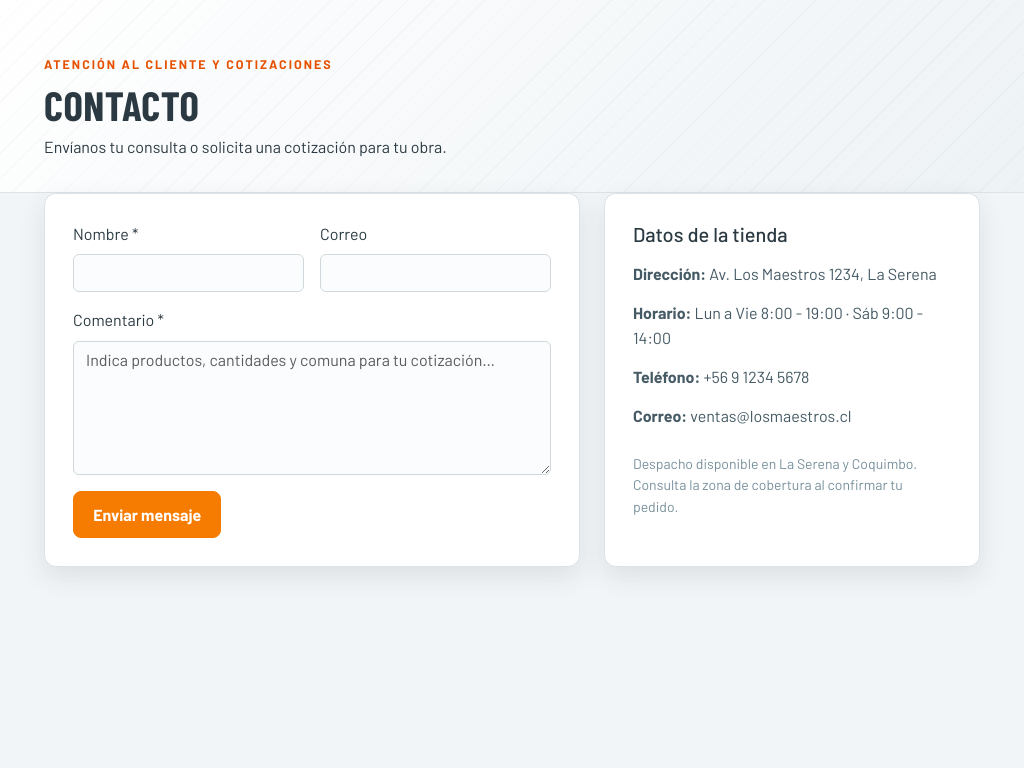
Scenario: Formulario de Contacto › envía el mensaje a la API y confirma la recepción
Type "María" into the field labelled "Nombre *" at (188, 273), box [73, 254, 304, 292]
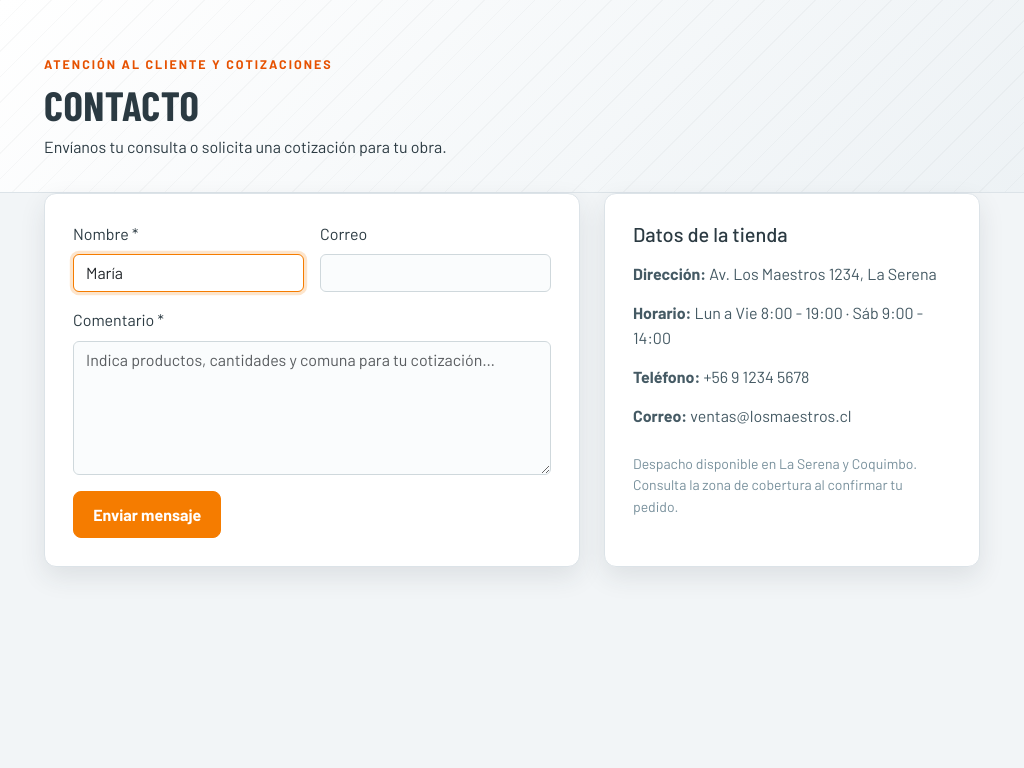
Type "alumna@duoc.cl" into the field labelled "Correo" at (436, 273), box [320, 254, 551, 292]
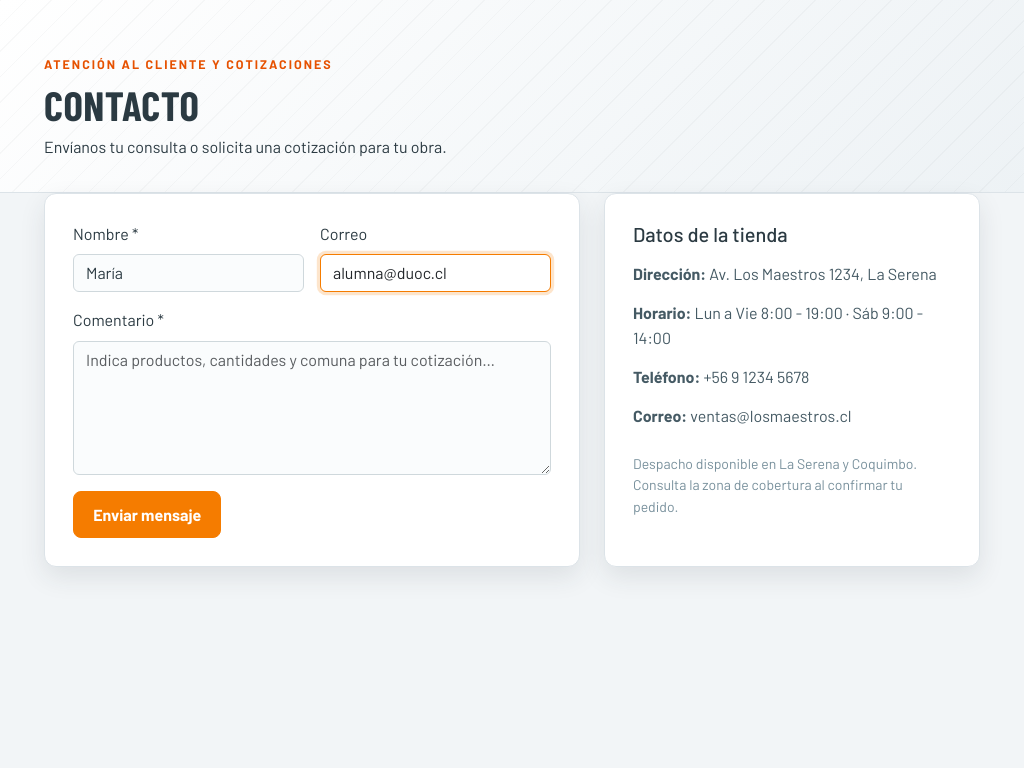
Type "Quiero cotizar cemento y áridos." into the text box labelled "Comentario *" at (312, 408), box [73, 341, 551, 475]
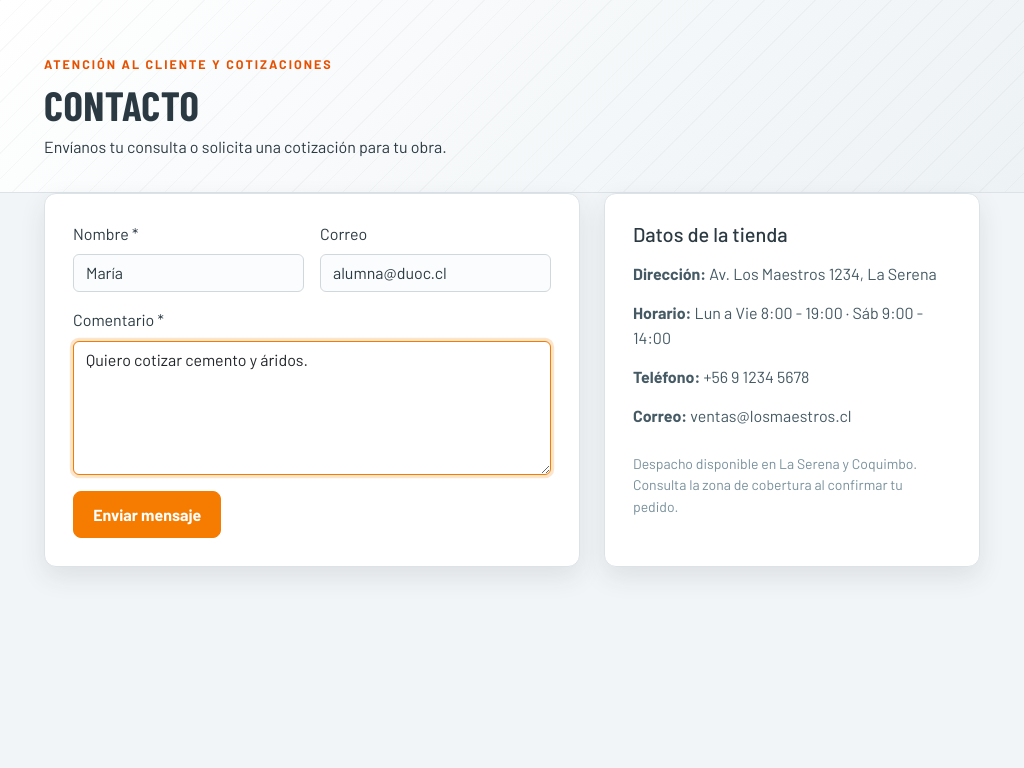
Click the button "Enviar mensaje" at (147, 514), box [73, 491, 221, 538]
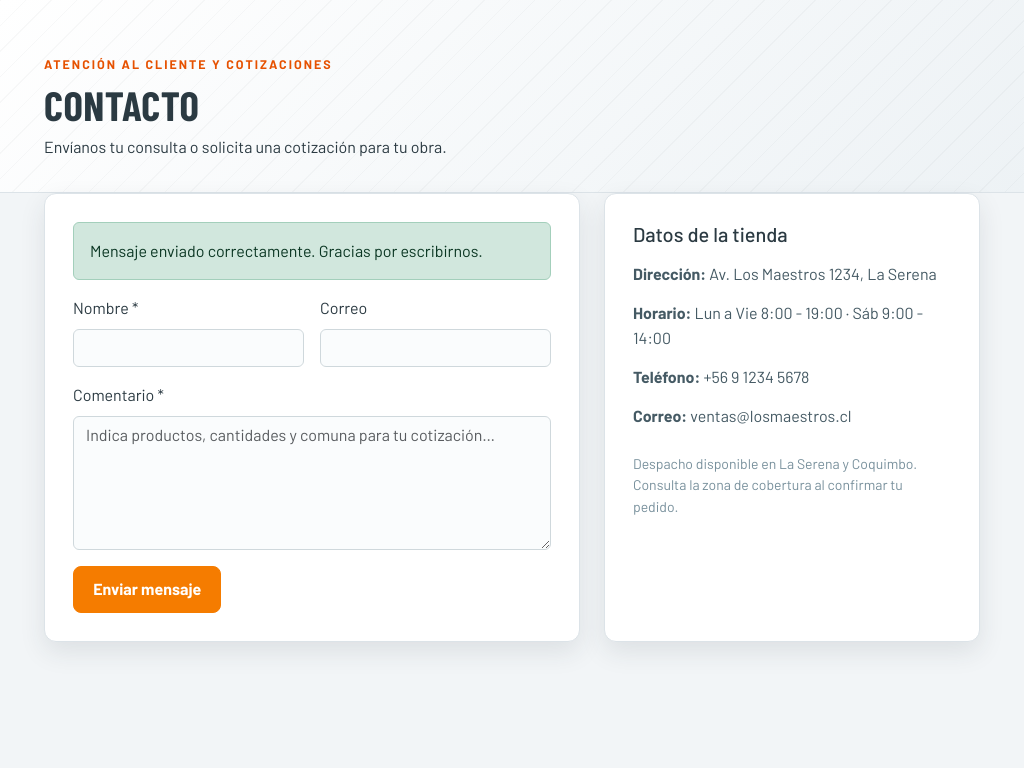
Result: the text "Mensaje enviado correctamente. Gracias por escribirnos." is shown at [73, 222, 551, 280]
